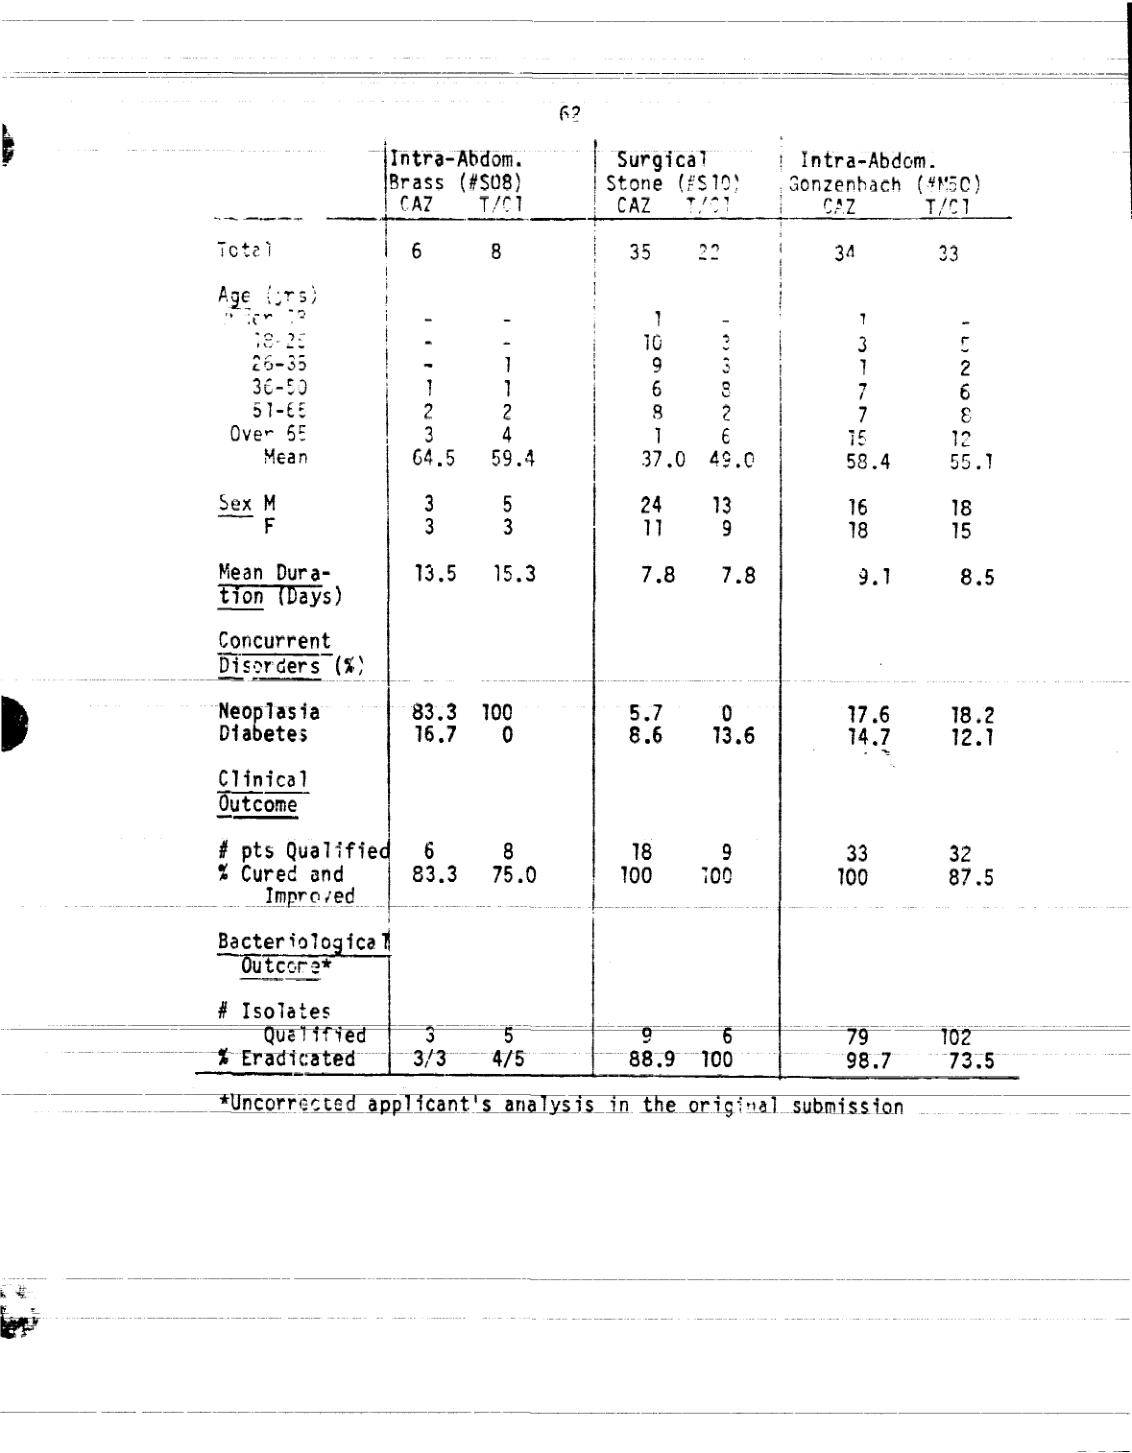partial_lined_merged_cells: (190, 129, 1024, 1080)
